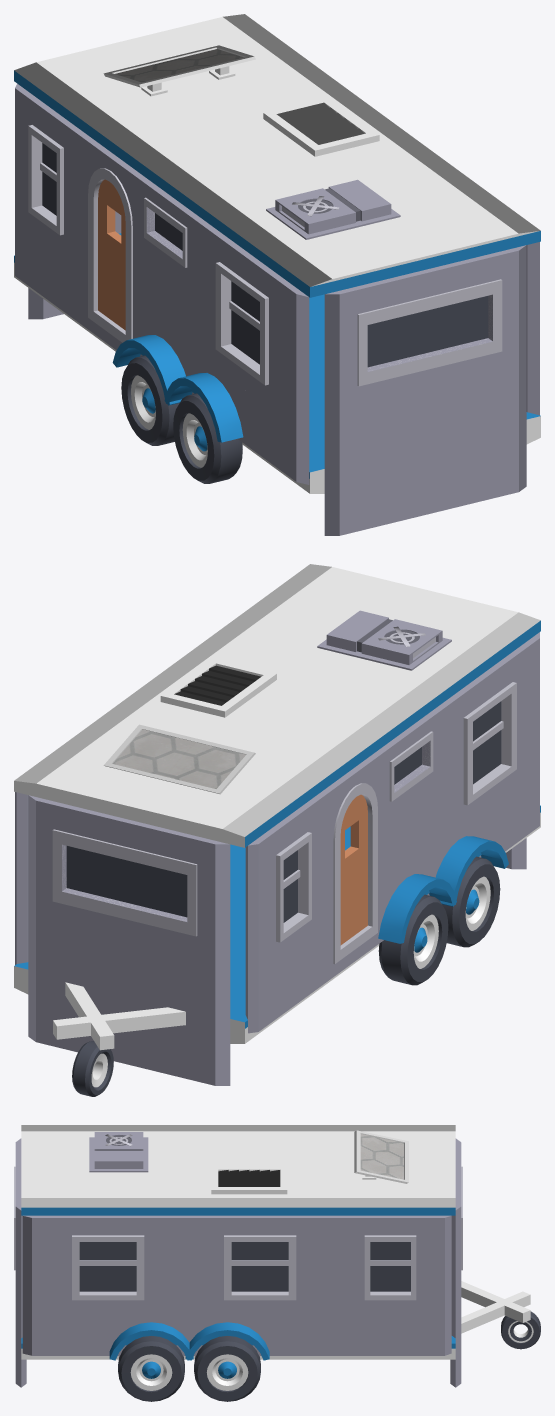
File: Caravan Wide OBJ.obj
3 renders of one model, top to bottom at view 1: azimuth 30°, elevation 25°; view 2: azimuth 150°, elevation 25°; view 3: azimuth 270°, elevation 25°, orthographic. The views are drawn at different scales.
Parts seen in each view (by area): view 1: plane_tail_29, wall_windowFactory_76, wall_window_64, wall_window_59, wall_windowFactory_63, door_round_35, detail_airLarge_83, wall_straight_66, ship_hull_2, air_vent_81, wheel_colored_16, wall_straight_65 (+11 smaller); view 2: plane_tail_29, wall_windowFactory_75, wall_window_64, wall_window_59, wall_windowFactory_63, door_round_35, detail_solarPanel_90, detail_airLarge_83, wall_straight_65, ship_hull_2, air_vent_81, wheel_colored_17 (+13 smaller); view 3: plane_tail_29, wall_window_69, wall_window_73, wall_window_72, wall_straight_71, wall_straight_70, wall_straight_74, wheel_colored_18, wheel_colored_19, detail_solarPanel_90, wall_windowFactory_75, detail_airLarge_83 (+8 smaller).
Part boxes in pixels (bbox=[...]): plane_tail_29: bbox=[14, 14, 540, 297]; wall_windowFactory_76: bbox=[324, 245, 526, 535]; wall_window_64: bbox=[192, 216, 309, 431]; wall_window_59: bbox=[15, 83, 90, 270]; wall_windowFactory_63: bbox=[141, 176, 201, 351]; door_round_35: bbox=[88, 168, 132, 342]; detail_airLarge_83: bbox=[266, 179, 400, 239]; wall_straight_66: bbox=[192, 353, 309, 484]; ship_hull_2: bbox=[14, 233, 540, 493]; air_vent_81: bbox=[263, 97, 379, 156]; wheel_colored_16: bbox=[173, 393, 242, 483]; wall_straight_65: bbox=[15, 222, 81, 324]; plane_tail_29: bbox=[14, 564, 540, 847]; wall_windowFactory_75: bbox=[28, 795, 230, 1085]; wall_window_64: bbox=[424, 632, 539, 847]; wall_window_59: bbox=[245, 791, 325, 979]; wall_windowFactory_63: bbox=[375, 714, 436, 885]; door_round_35: bbox=[333, 783, 377, 964]; detail_solarPanel_90: bbox=[104, 724, 255, 794]; detail_airLarge_83: bbox=[317, 610, 451, 670]; wall_straight_65: bbox=[245, 930, 325, 1033]; ship_hull_2: bbox=[14, 805, 540, 1043]; air_vent_81: bbox=[160, 658, 276, 717]; wheel_colored_17: bbox=[378, 894, 448, 985]; plane_tail_29: bbox=[21, 1125, 455, 1215]; wall_window_69: bbox=[22, 1215, 191, 1316]; wall_window_73: bbox=[179, 1215, 343, 1316]; wall_window_72: bbox=[331, 1215, 451, 1316]; wall_straight_71: bbox=[336, 1314, 451, 1355]; wall_straight_70: bbox=[22, 1314, 183, 1355]; wall_straight_74: bbox=[184, 1316, 336, 1355]; wheel_colored_18: bbox=[118, 1336, 184, 1401]; wheel_colored_19: bbox=[194, 1336, 260, 1401]; detail_solarPanel_90: bbox=[354, 1130, 408, 1183]; wall_windowFactory_75: bbox=[450, 1138, 462, 1387]; detail_airLarge_83: bbox=[89, 1132, 148, 1172].
Size of the model in its own units: 2.24 by 2.05 by 4.85.
Materials: 16 (1 with a texture image).
